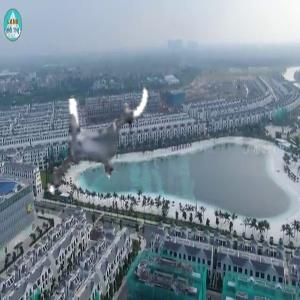drone: (35, 69, 163, 197)
